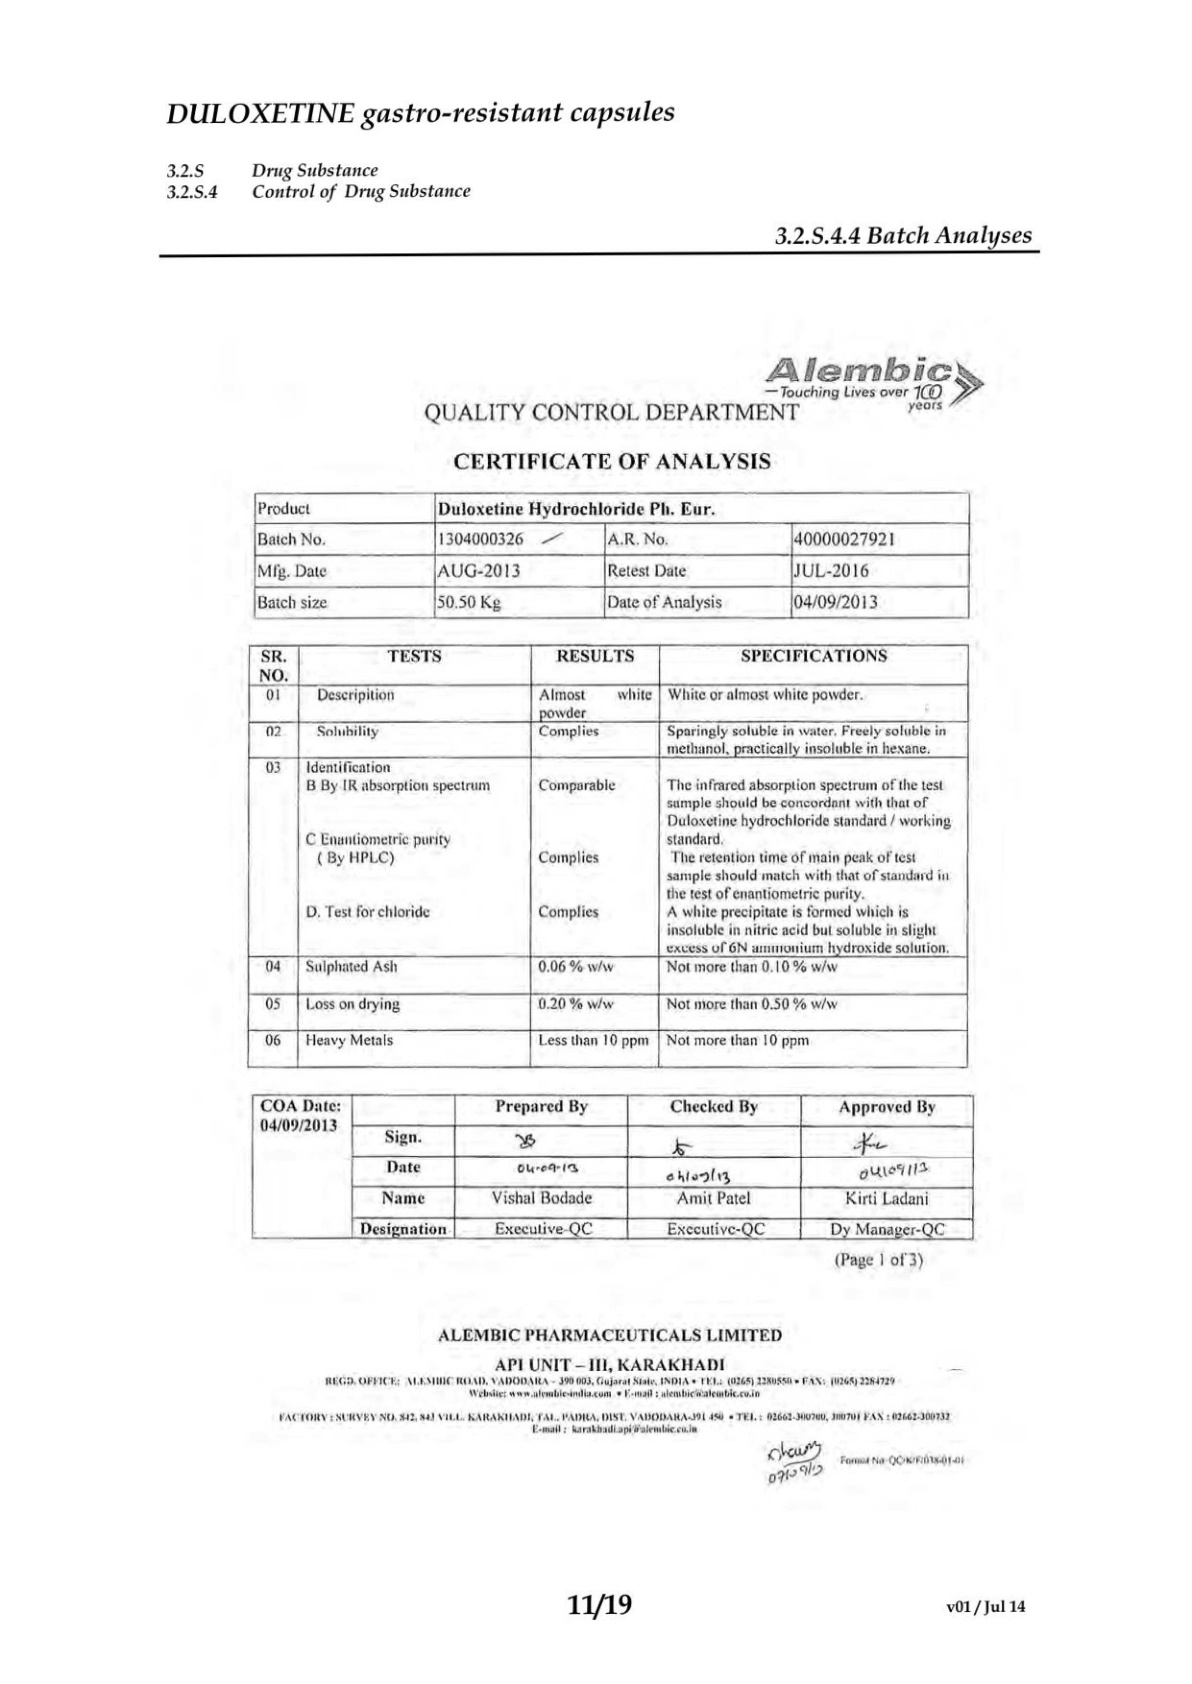full_lined: (246, 642, 970, 1070)
merged_cells: (252, 1092, 975, 1240), (253, 490, 970, 620)
